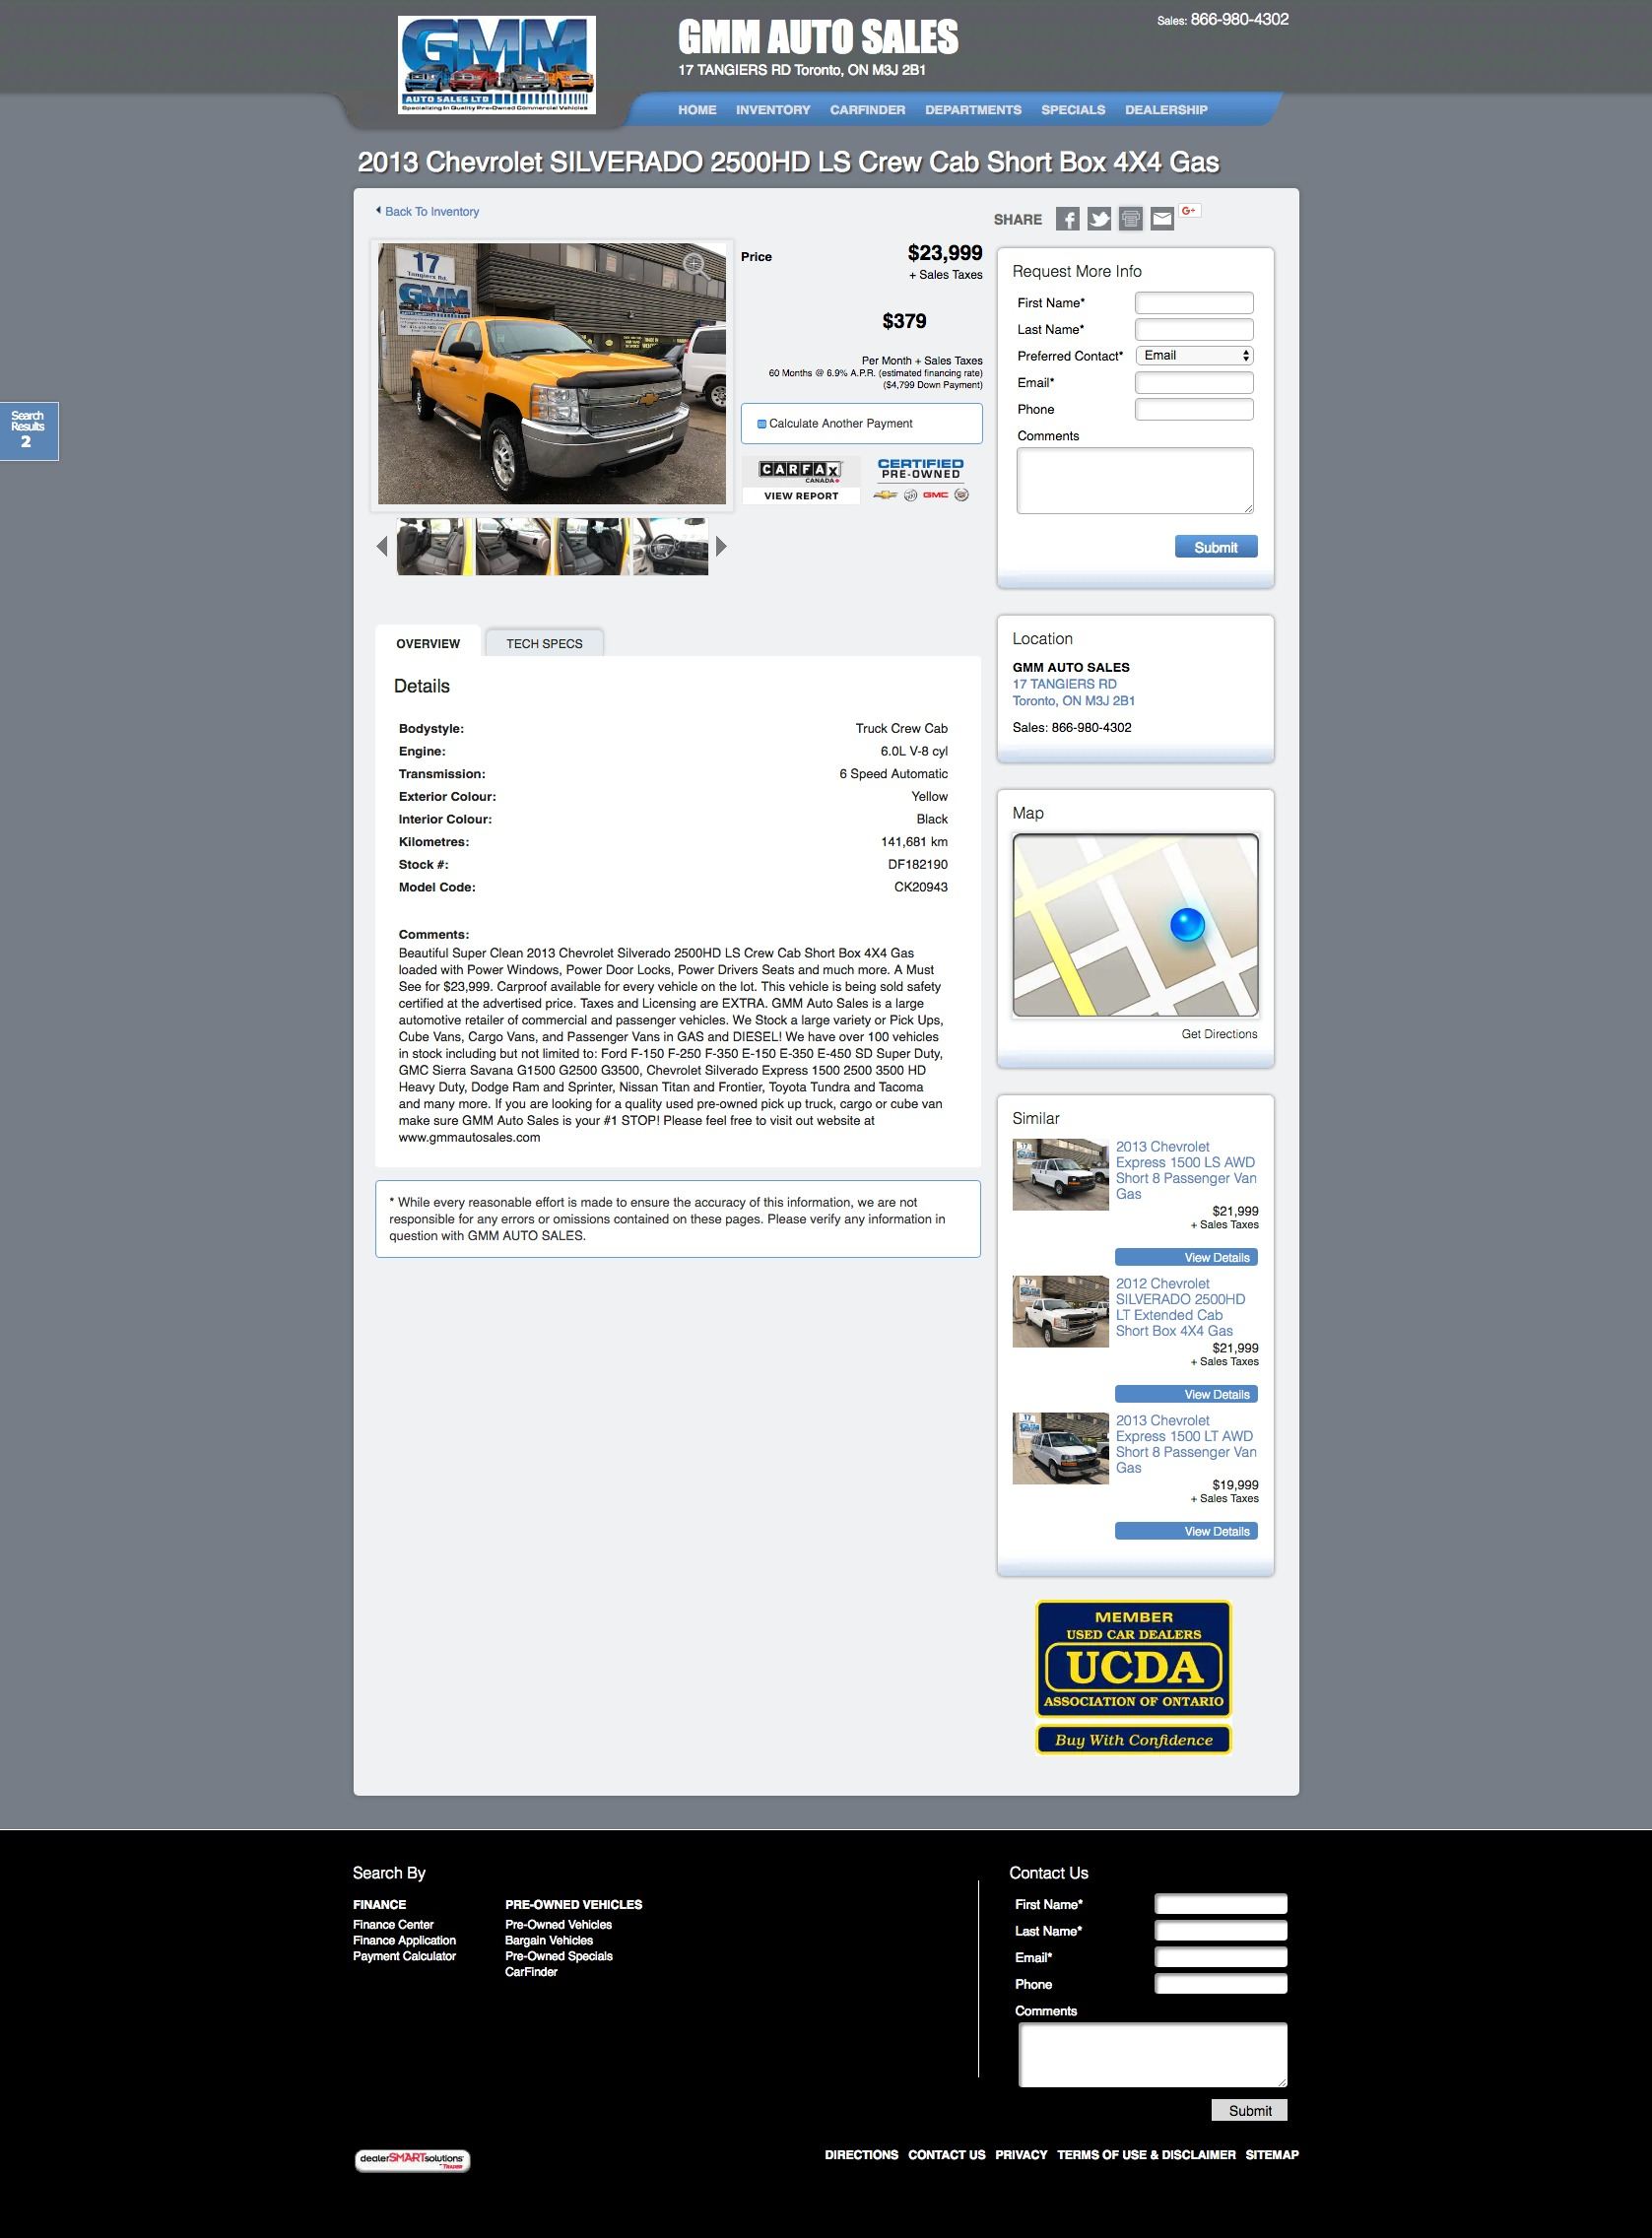car: (716, 535, 728, 558)
